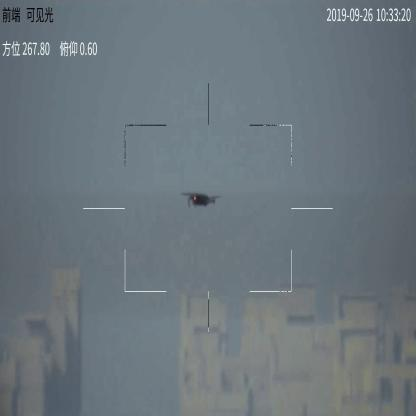uav: (183, 190, 221, 209)
